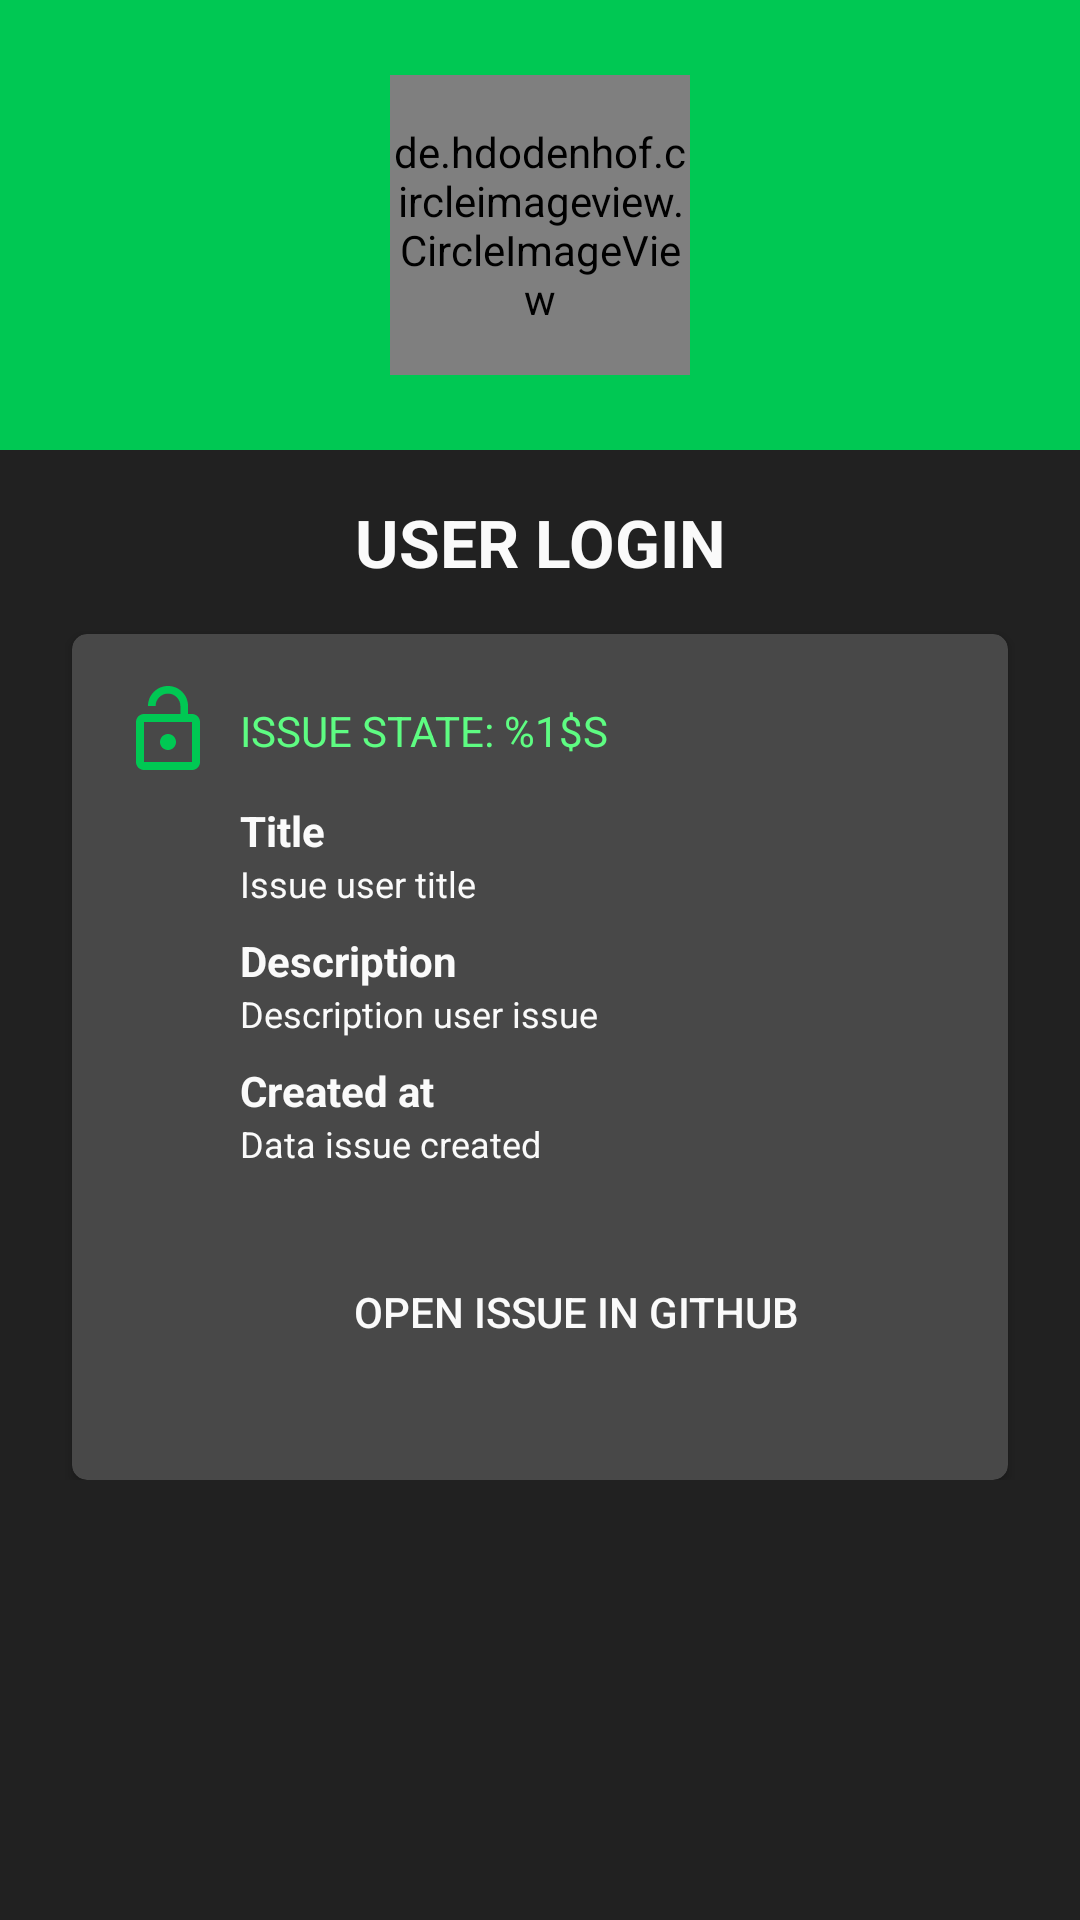

Icon bounding boxes for this 1080px x 1920px phone screenshot, format (x1, y1, x2, y2):
lock open: (136, 686, 200, 770)
